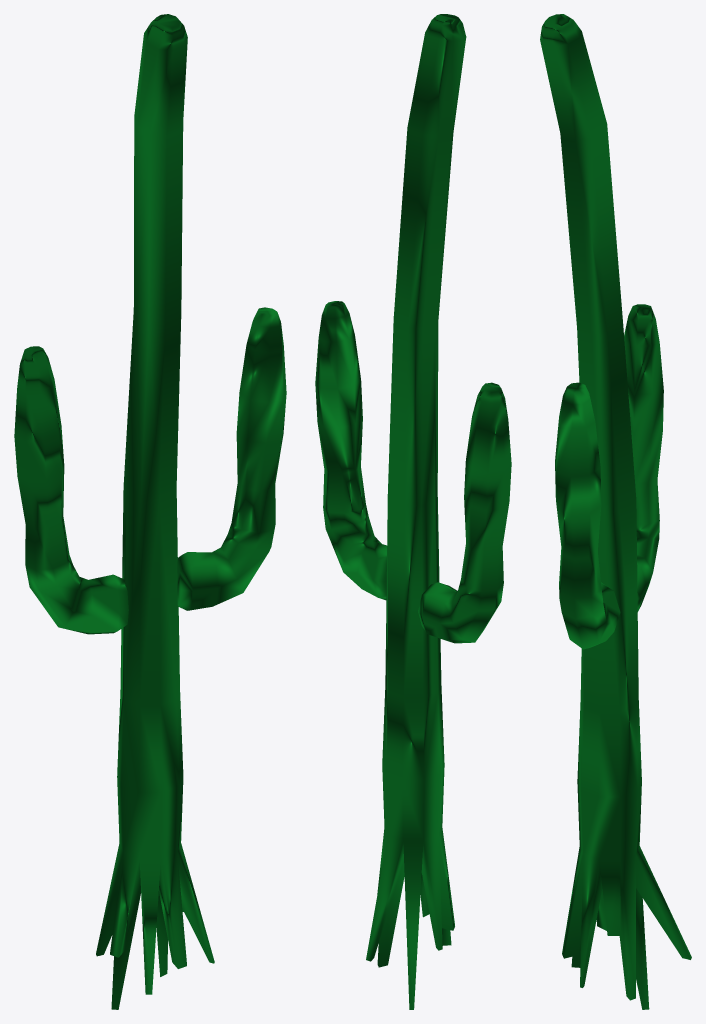
File: SeguaroCactusLarge2_LOD0.obj
The picture shows the model from 3 angles, left to right: view 1: azimuth 30°, elevation 25°; view 2: azimuth 150°, elevation 25°; view 3: azimuth 270°, elevation 25°; orthographic projection. The views are drawn at different scales.
Visible parts, largest first — view 1: SeguaroCactusLarge2_LOD0; view 2: SeguaroCactusLarge2_LOD0; view 3: SeguaroCactusLarge2_LOD0.
Part boxes in pixels (x1,y1,x2,y2): SeguaroCactusLarge2_LOD0: (14, 14, 286, 1009); SeguaroCactusLarge2_LOD0: (315, 14, 511, 1009); SeguaroCactusLarge2_LOD0: (540, 14, 691, 1009).
Bounding box in the file's own units: 138 × 578 × 79.98.
